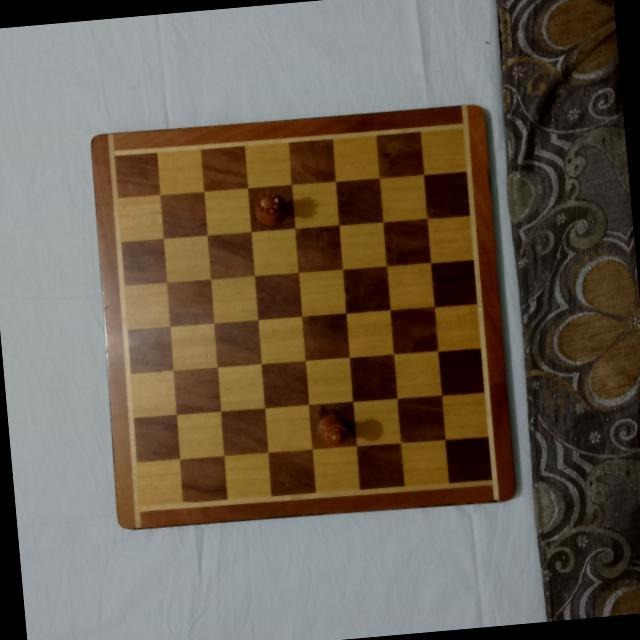white-king: (310, 409, 349, 446)
white-queen: (250, 189, 289, 226)
